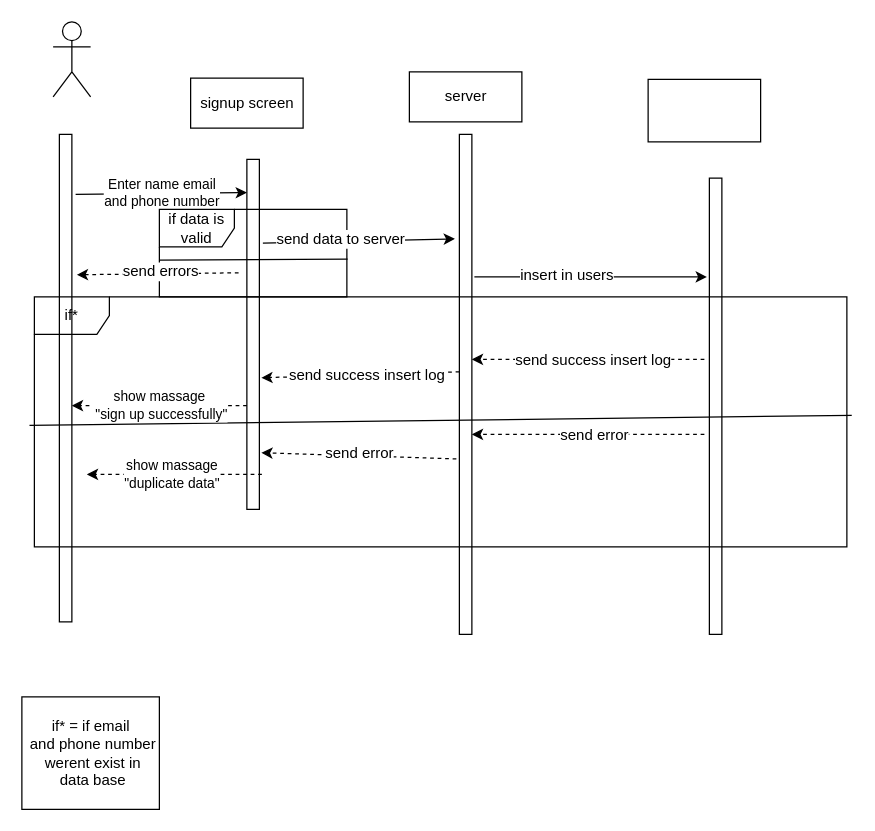
Some shapes in this 875 by 831 pixel diagram are drawn without their labels. The shapes that lost their labels are listed below. From the top down, each one's box as (x1, y1, x2, y2) in pixels, then its label:
(52, 21, 91, 97): customer
(647, 78, 761, 142): DB: users
